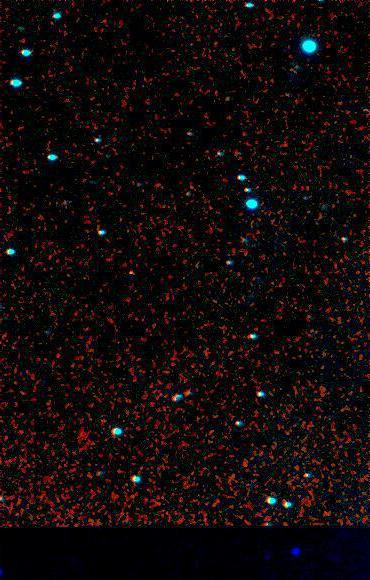star: (117, 257, 147, 287)
